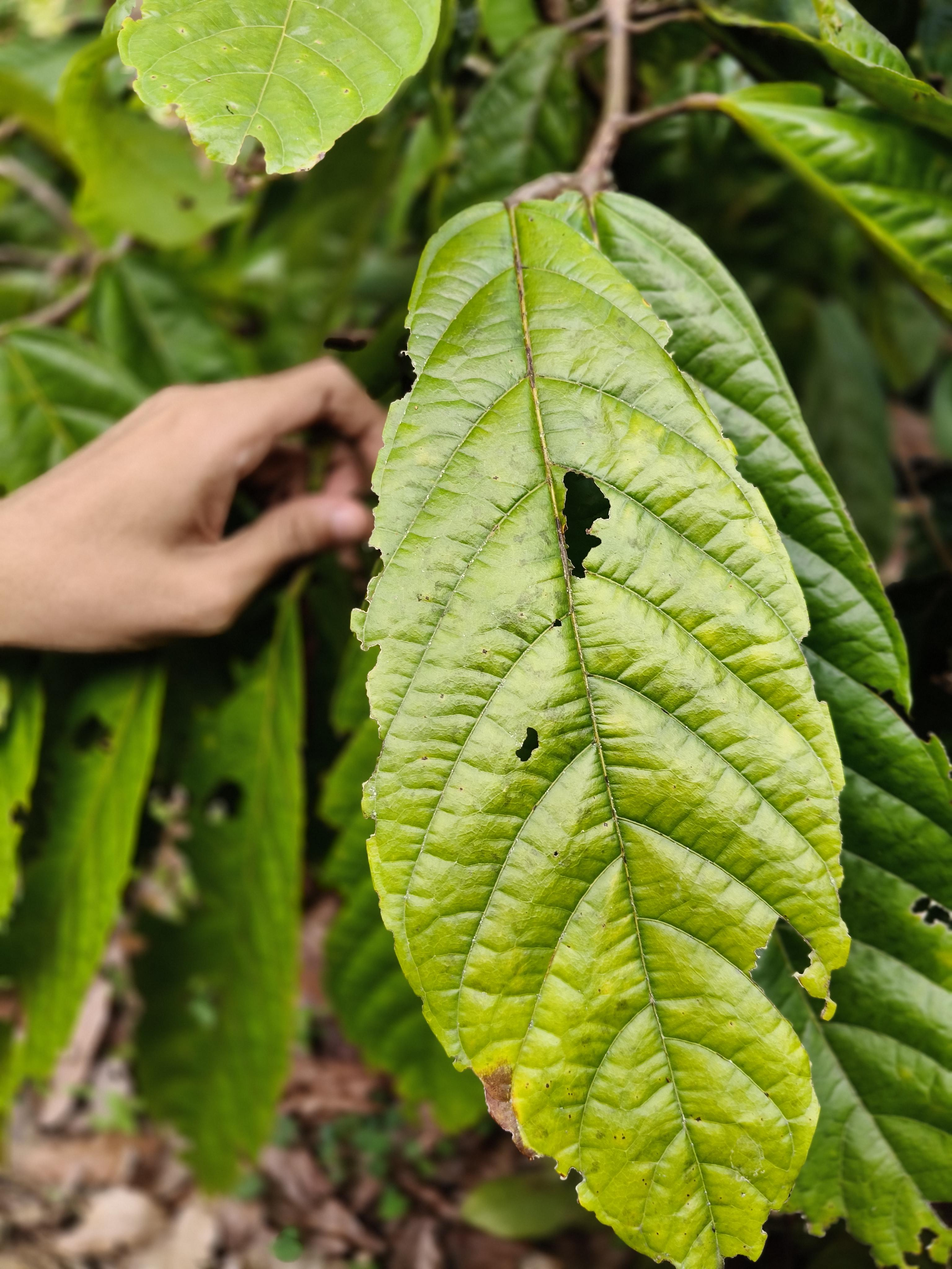deficiencia_potasio: (358, 195, 845, 1269)
